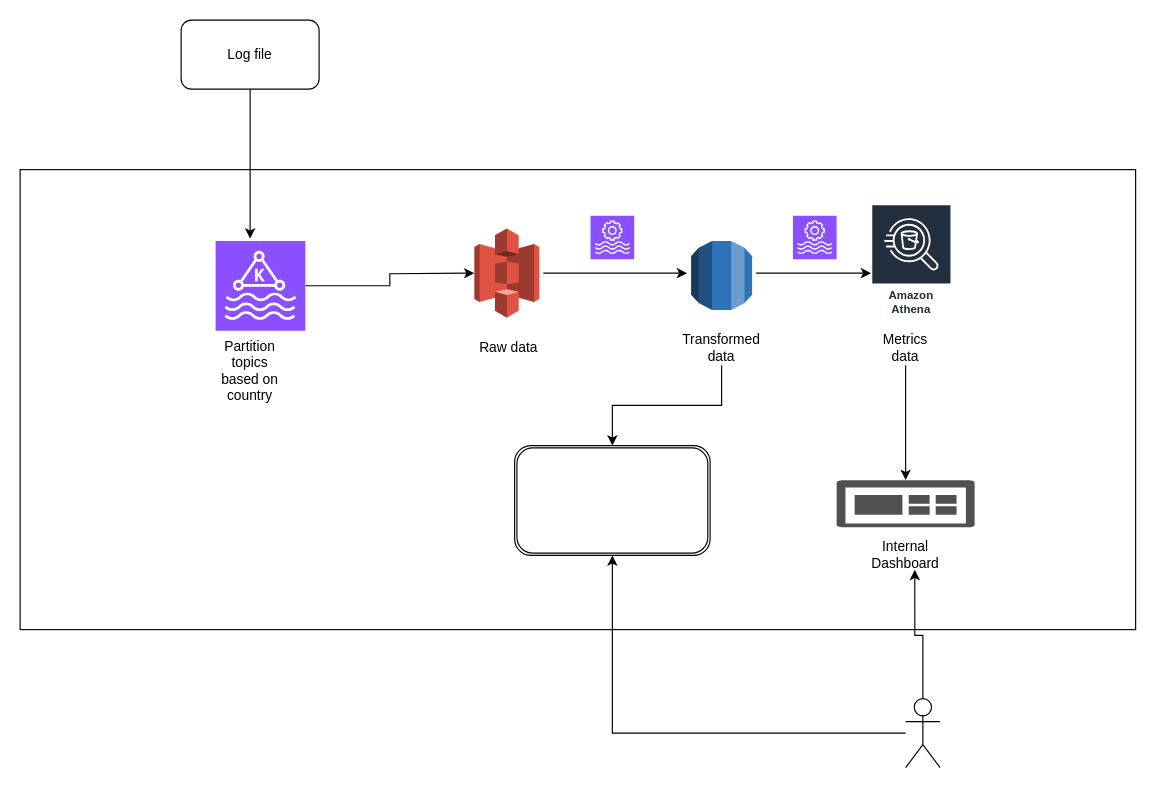
Image size: 1156x812. Some labels were removed from this diagram. The shapes that lost their labels are listed below. From the top down, each one's centre as x and y in pixels, then its label:
(x=611, y=499): APIs
(x=922, y=732): Actor
